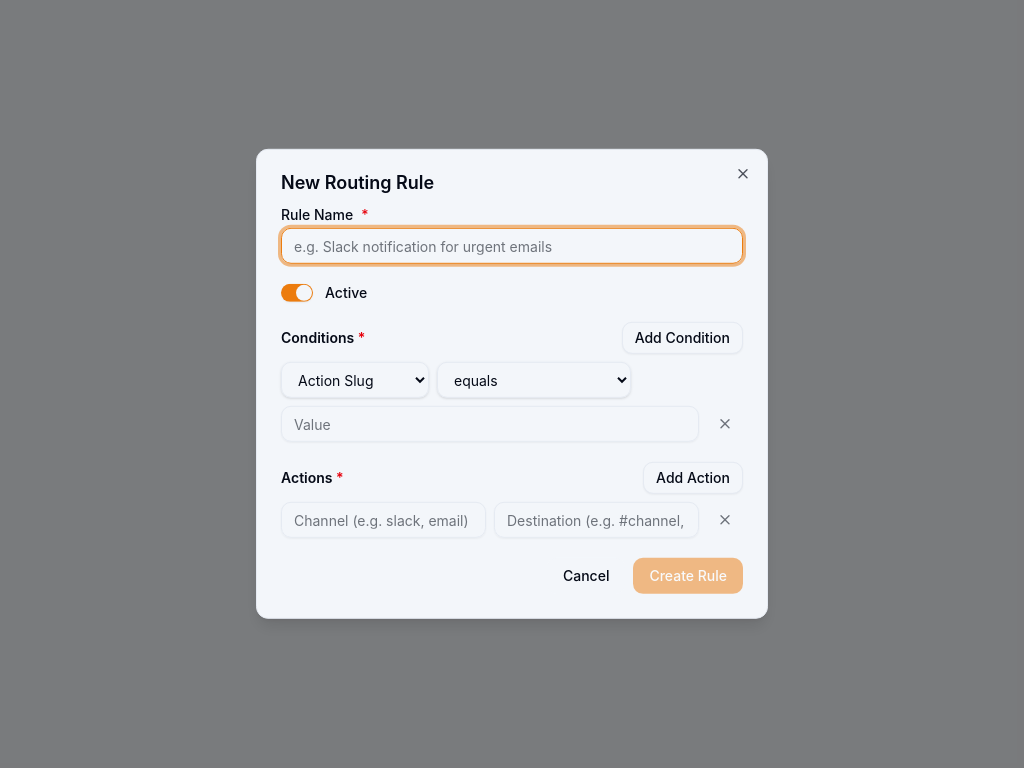
it: RuleBuilder — add/remove condition rows › clicking 'Add Condition' appends a new condition row
Expected: the dropdown named "condition 1 field" is shown, [281,362,429,398]
Click the button "Add Condition": point(682, 338) [622,322,743,354]
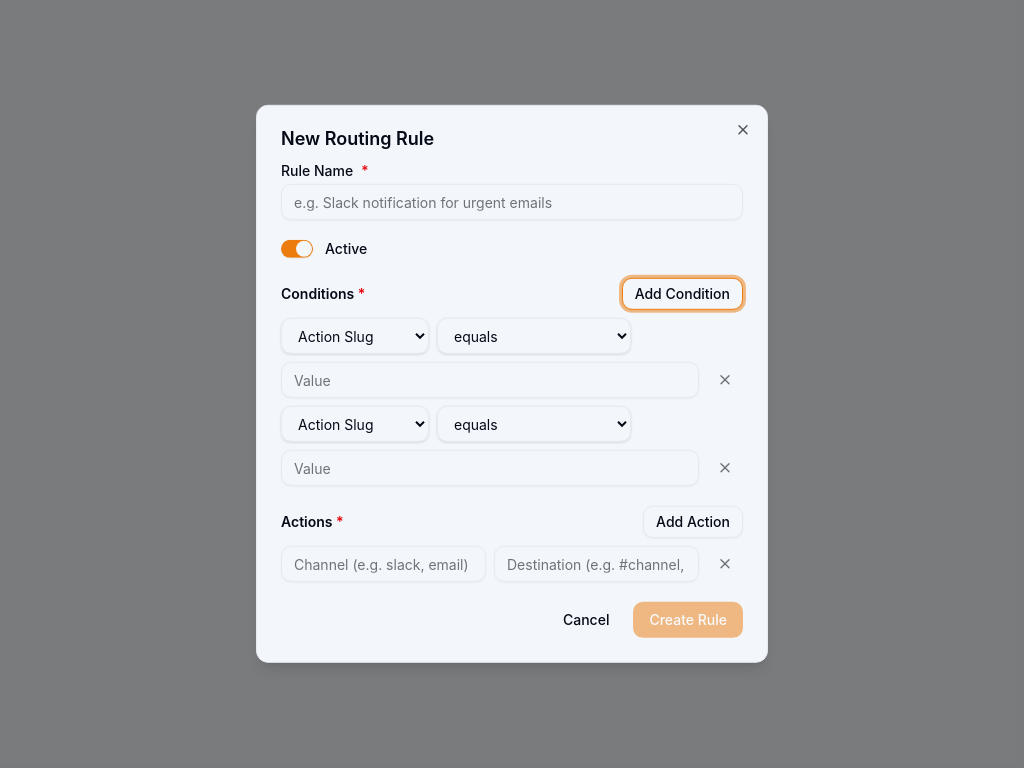
Now the dropdown named "condition 2 field" is shown, box [281,406,429,442]
